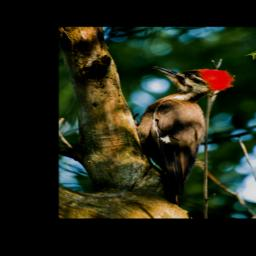Woodpecker: (126, 65, 235, 205)
